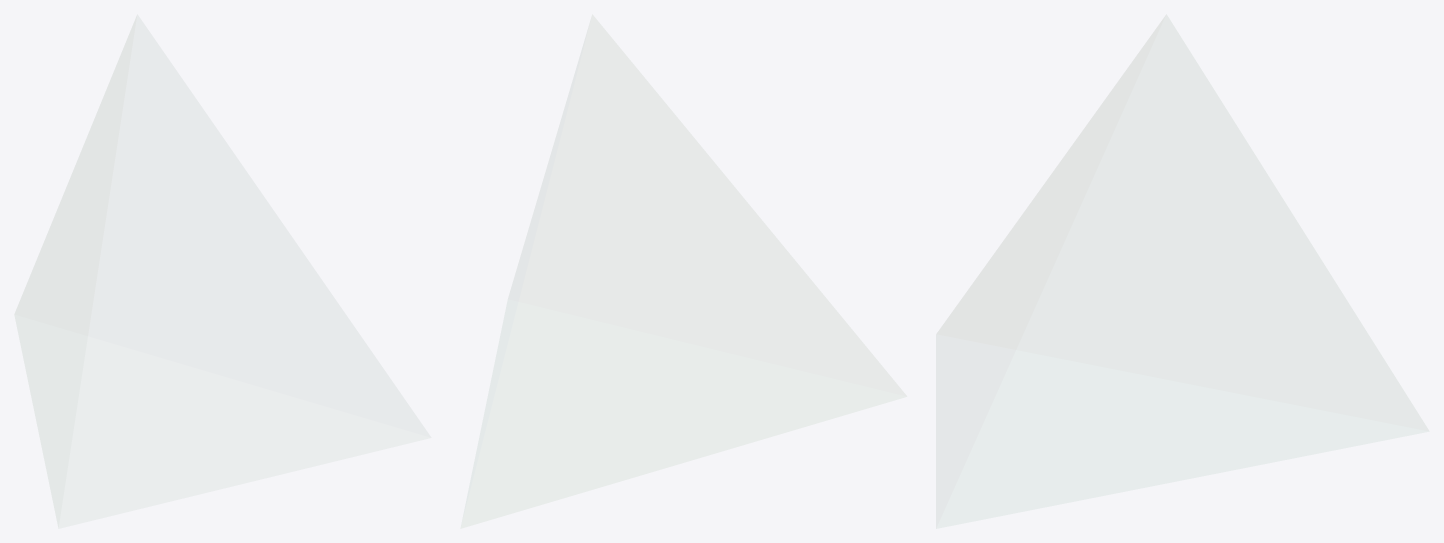
The model's file is tetra_mint.glb.
3 views of the same model, side by side, from view 1: azimuth 30°, elevation 25°; view 2: azimuth 150°, elevation 25°; view 3: azimuth 270°, elevation 25° (orthographic). The views are drawn at different scales.
Bounding box in the file's own units: 1.4 × 1.4 × 1.5.
